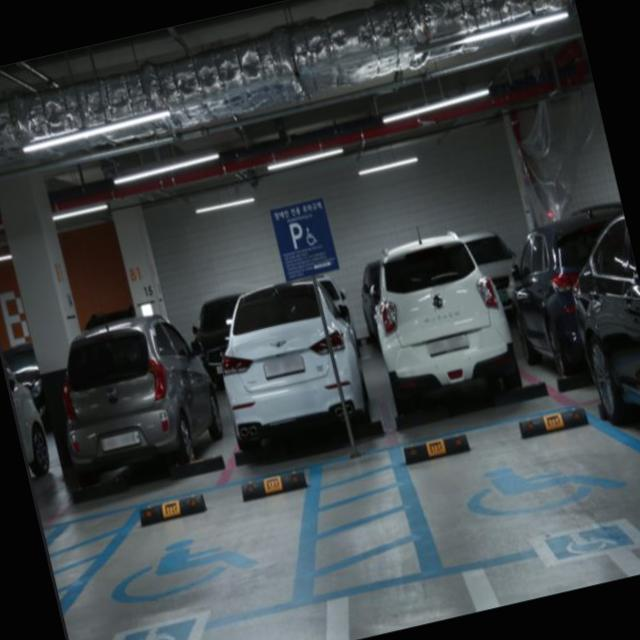car: (36, 296, 227, 508), (200, 263, 386, 479), (358, 226, 530, 430)
free: (372, 391, 640, 576), (81, 460, 347, 640)
